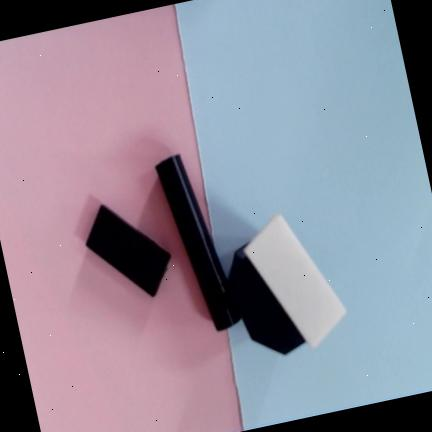Cilindro: (156, 155, 241, 330)
Paralelepipedo: (244, 214, 345, 347), (86, 205, 171, 296)
Prisma_hexagonal: (230, 243, 305, 353)
